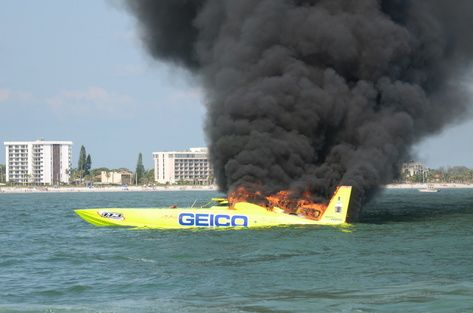Geico: (177, 211, 254, 229)
